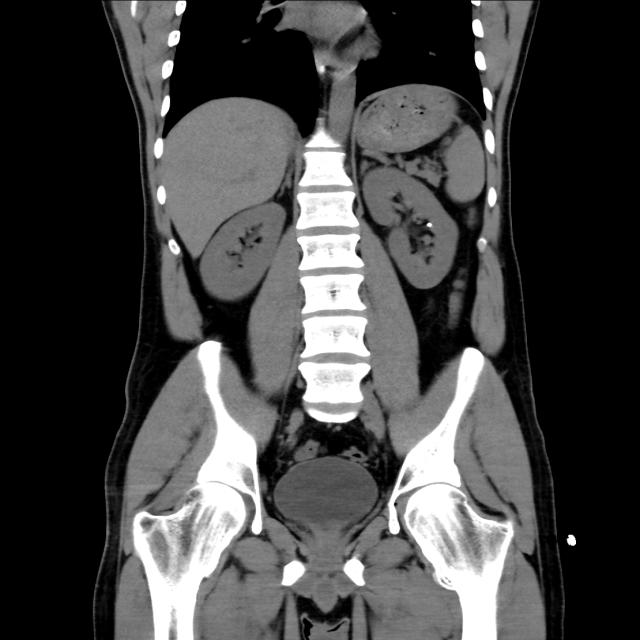kidneystone: (427, 221, 432, 227)
